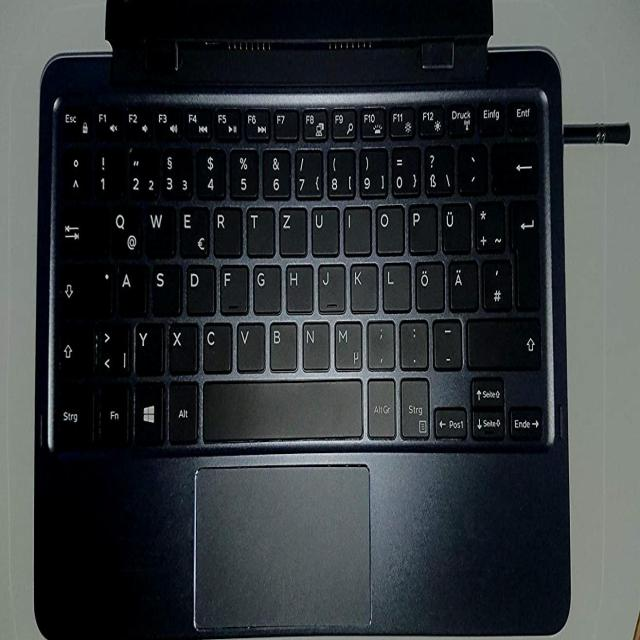0: (390, 145, 420, 196)
1: (94, 147, 123, 198)
2: (127, 145, 158, 198)
3: (161, 146, 191, 199)
4: (195, 145, 224, 197)
5: (228, 146, 257, 197)
6: (261, 146, 290, 197)
7: (294, 146, 322, 197)
8: (326, 145, 355, 197)
9: (358, 146, 387, 197)
a: (116, 262, 146, 314)
accent: (457, 140, 486, 191)
ae: (448, 257, 478, 310)
alt-left: (168, 379, 197, 442)
altgr-right: (366, 374, 395, 437)
b: (268, 319, 297, 370)
c: (201, 319, 231, 372)
caret: (61, 146, 90, 196)
comma: (366, 317, 395, 367)
d: (184, 262, 214, 314)
del: (491, 139, 539, 192)
e: (178, 203, 208, 257)
enter: (509, 197, 540, 311)
f: (218, 261, 247, 312)
g: (252, 262, 280, 312)
h: (284, 261, 313, 312)
hash: (481, 256, 511, 309)
i: (342, 204, 371, 255)
j: (316, 260, 344, 312)
k: (349, 260, 377, 312)
keyboard: (44, 86, 556, 459)
l: (381, 259, 410, 312)
less: (100, 320, 129, 376)
m: (333, 318, 361, 370)
minus: (431, 316, 461, 367)
n: (300, 319, 329, 370)
o: (374, 202, 403, 255)
oe: (414, 259, 443, 310)
p: (407, 201, 437, 253)
plus: (474, 198, 505, 252)
point: (398, 316, 428, 367)
q: (110, 204, 140, 258)
r: (211, 204, 241, 255)
s: (150, 261, 180, 314)
shift-left: (56, 321, 95, 376)
shift-lock: (58, 261, 113, 316)
shift-right: (465, 313, 540, 368)
space: (202, 376, 362, 440)
ss: (423, 142, 453, 195)
strg-left: (53, 382, 93, 446)
strg-right: (399, 375, 429, 438)
t: (245, 203, 274, 255)
tab: (59, 201, 106, 256)
u: (310, 203, 339, 255)
ue: (440, 199, 471, 253)
v: (235, 318, 264, 371)
w: (145, 203, 175, 256)
x: (167, 319, 196, 373)
y: (133, 320, 163, 374)
z: (278, 203, 306, 256)
